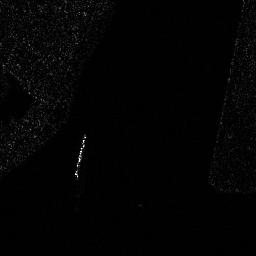ship: (73, 134, 89, 178)
